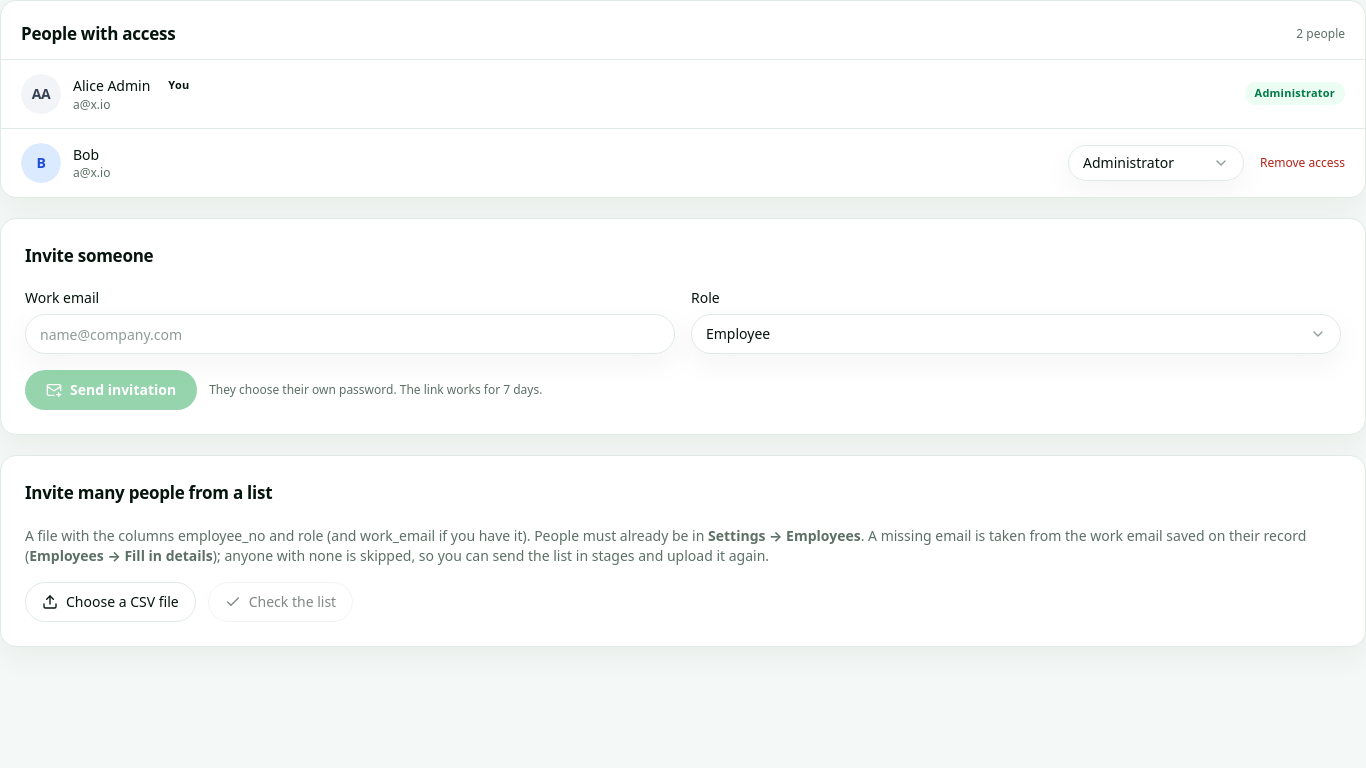
Test case: AccessManager › removal needs a confirmation, and a refusal from the server is shown
The image size is (1366, 768).
Click the button "Remove access": (1302, 162) [1260,154,1345,170]
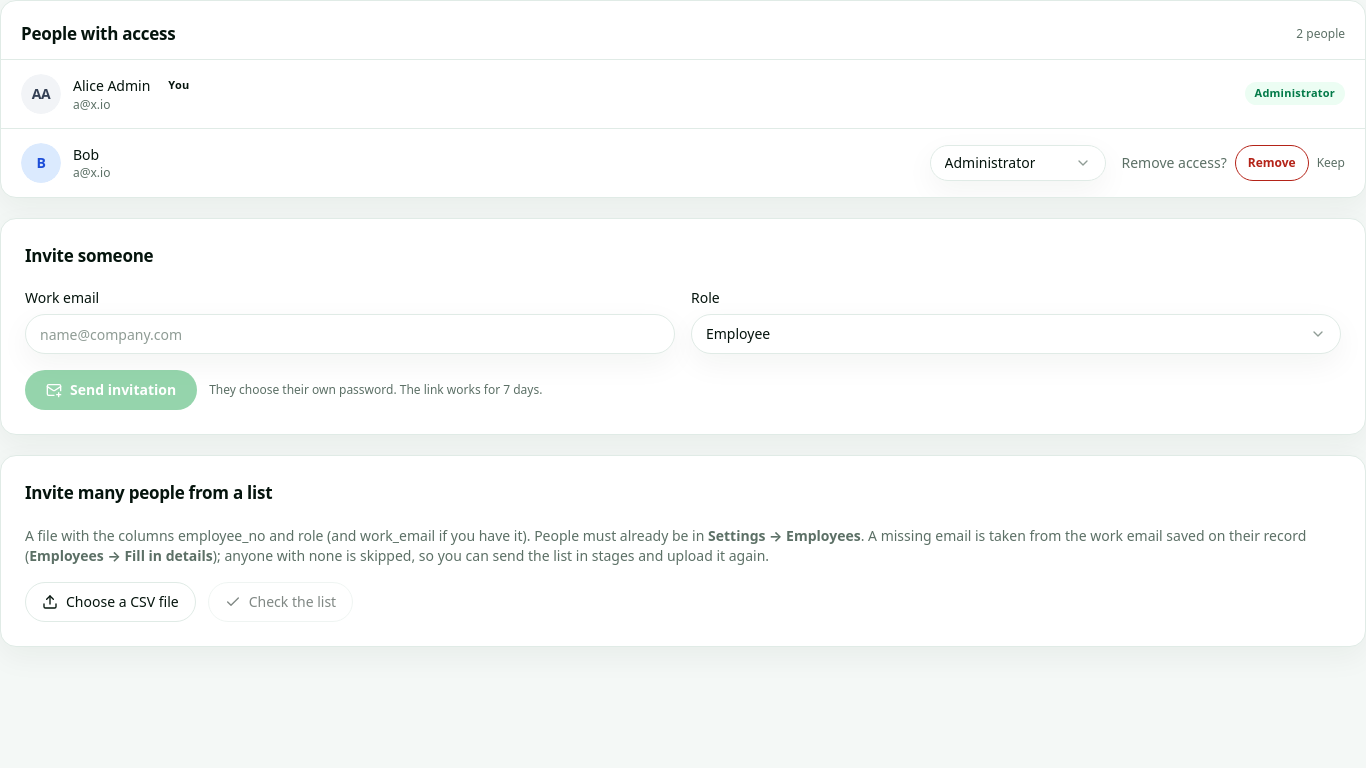
Click the button "Remove": (1272, 162) [1235,144,1309,180]
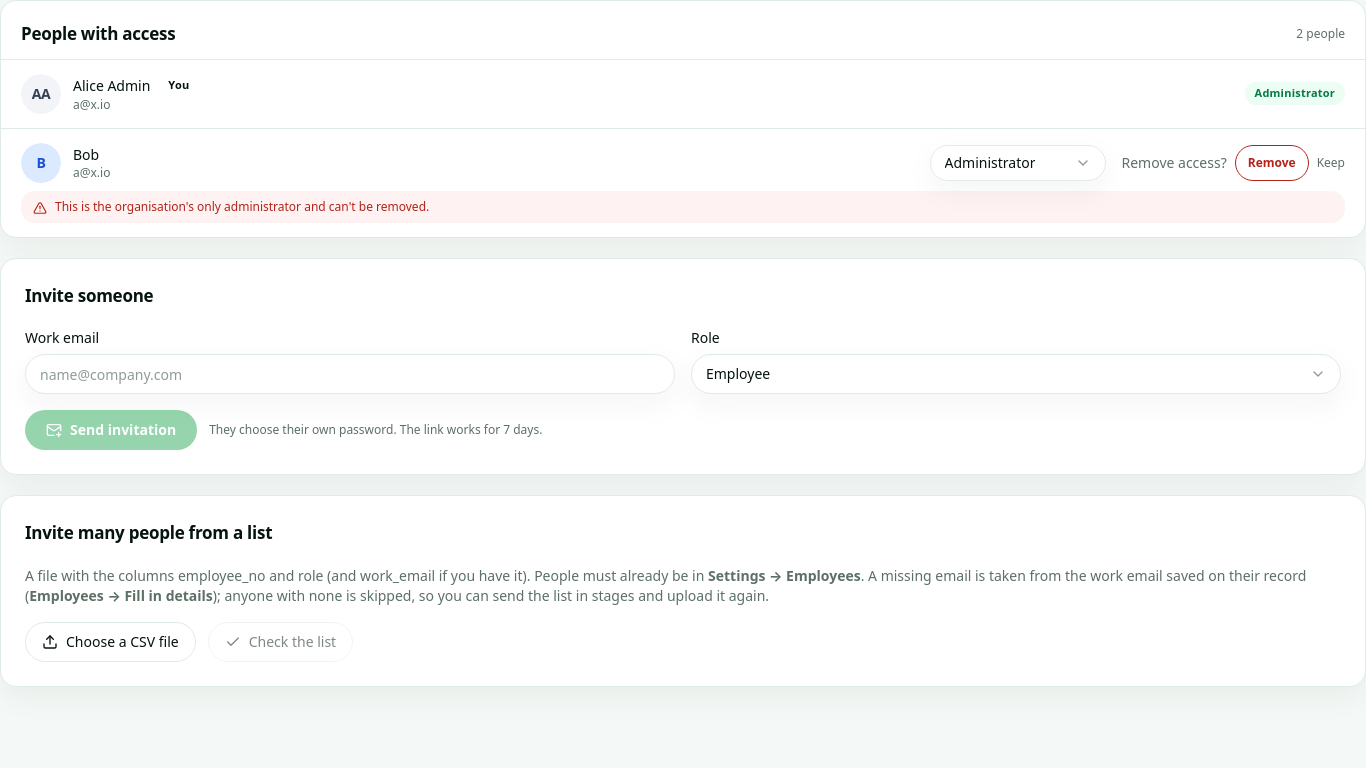
expect the text "only administrator" is shown: met, box [55,198,429,214]
